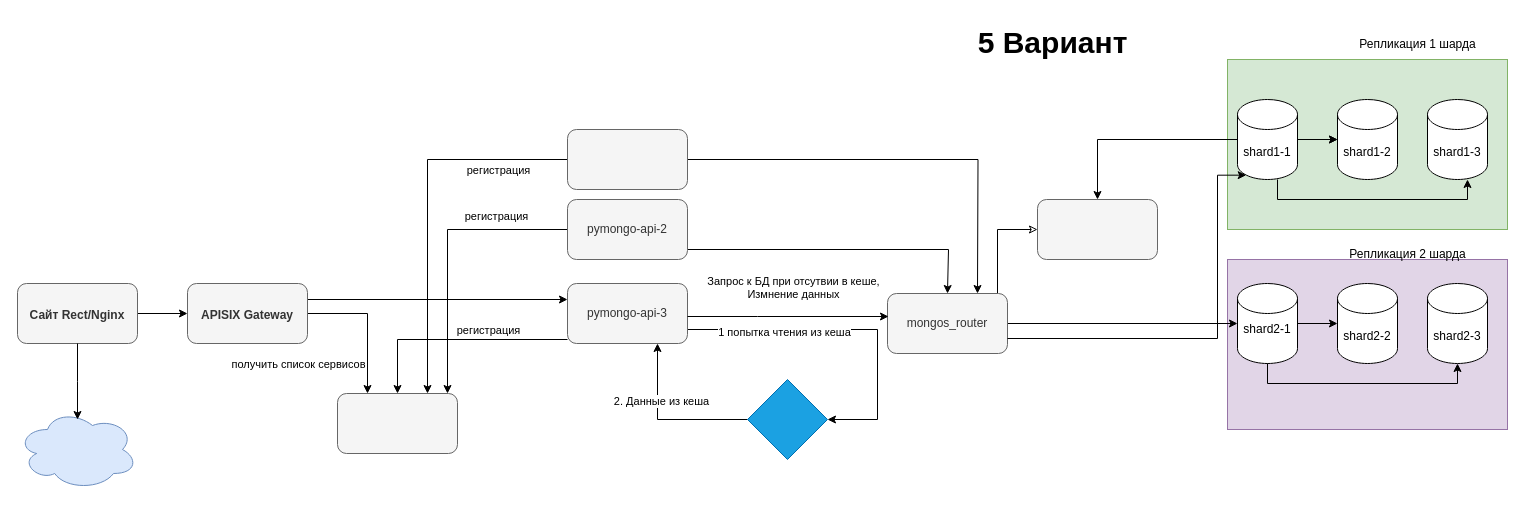
The diagram is 1525 pixels wide and 507 high, and some of its shapes have lost their labels. Here are the shapes that lost their labels. From the top down, the centre of each, then its label:
the point at 627,159: pymongo-api-1
the point at 1097,229: configSrv
the point at 397,423: Consul
the point at 787,419: redis1
the point at 77,449: CDN
